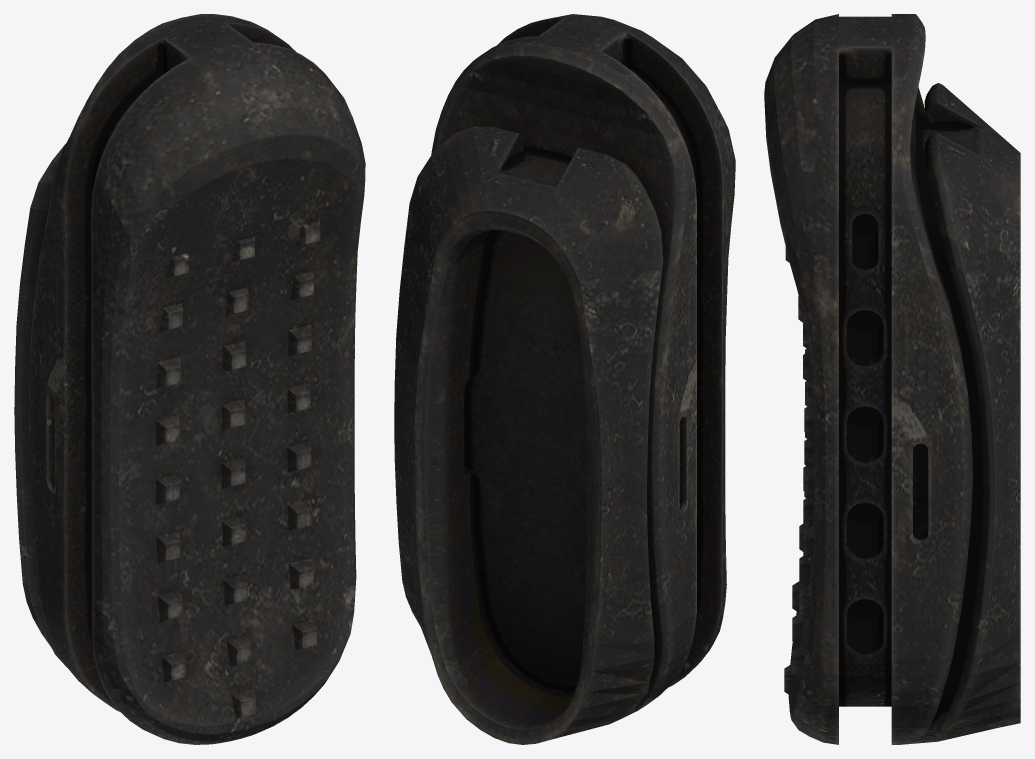
3 renders of one model, left to right at view 1: azimuth 30°, elevation 25°; view 2: azimuth 150°, elevation 25°; view 3: azimuth 270°, elevation 25°, orthographic. The views are drawn at different scales.
Parts seen in each view (by area): view 1: TW_5a0c59791526d8dba737bba7_PZ_Import; view 2: TW_5a0c59791526d8dba737bba7_PZ_Import; view 3: TW_5a0c59791526d8dba737bba7_PZ_Import.
Boxes of the visible parts, bbox=[...] form: TW_5a0c59791526d8dba737bba7_PZ_Import: bbox=[14, 14, 365, 744]; TW_5a0c59791526d8dba737bba7_PZ_Import: bbox=[394, 14, 735, 744]; TW_5a0c59791526d8dba737bba7_PZ_Import: bbox=[764, 14, 1020, 744].
Bounding box in the file's own units: 0.0305 × 0.0256 × 0.0774.
Materials: 1 (1 with a texture image).
